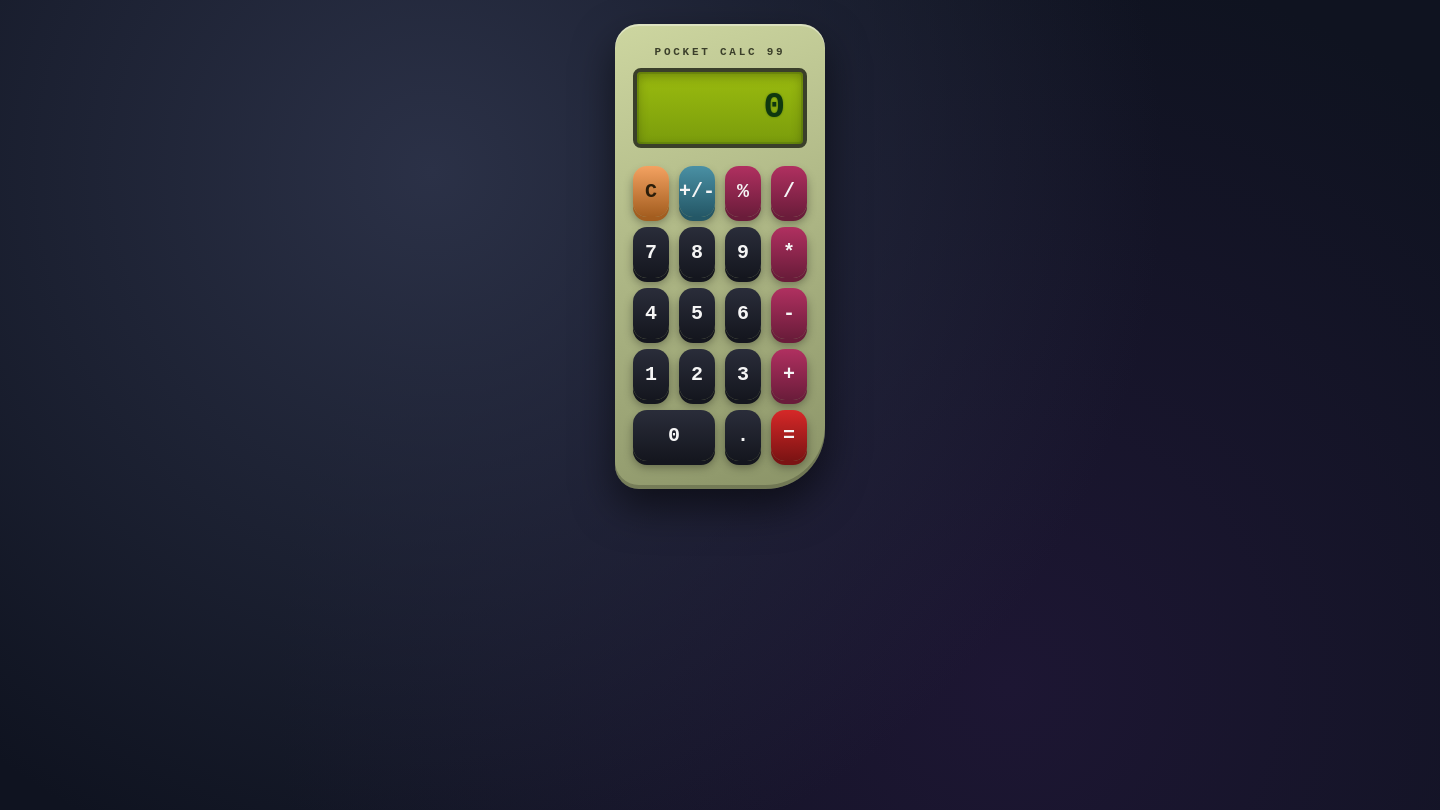
Test case: Pocket Calc 99 › resta con resultado negativo muestra ERROR
Click the button "5". click: (697, 314)
box: [679,288,715,339]
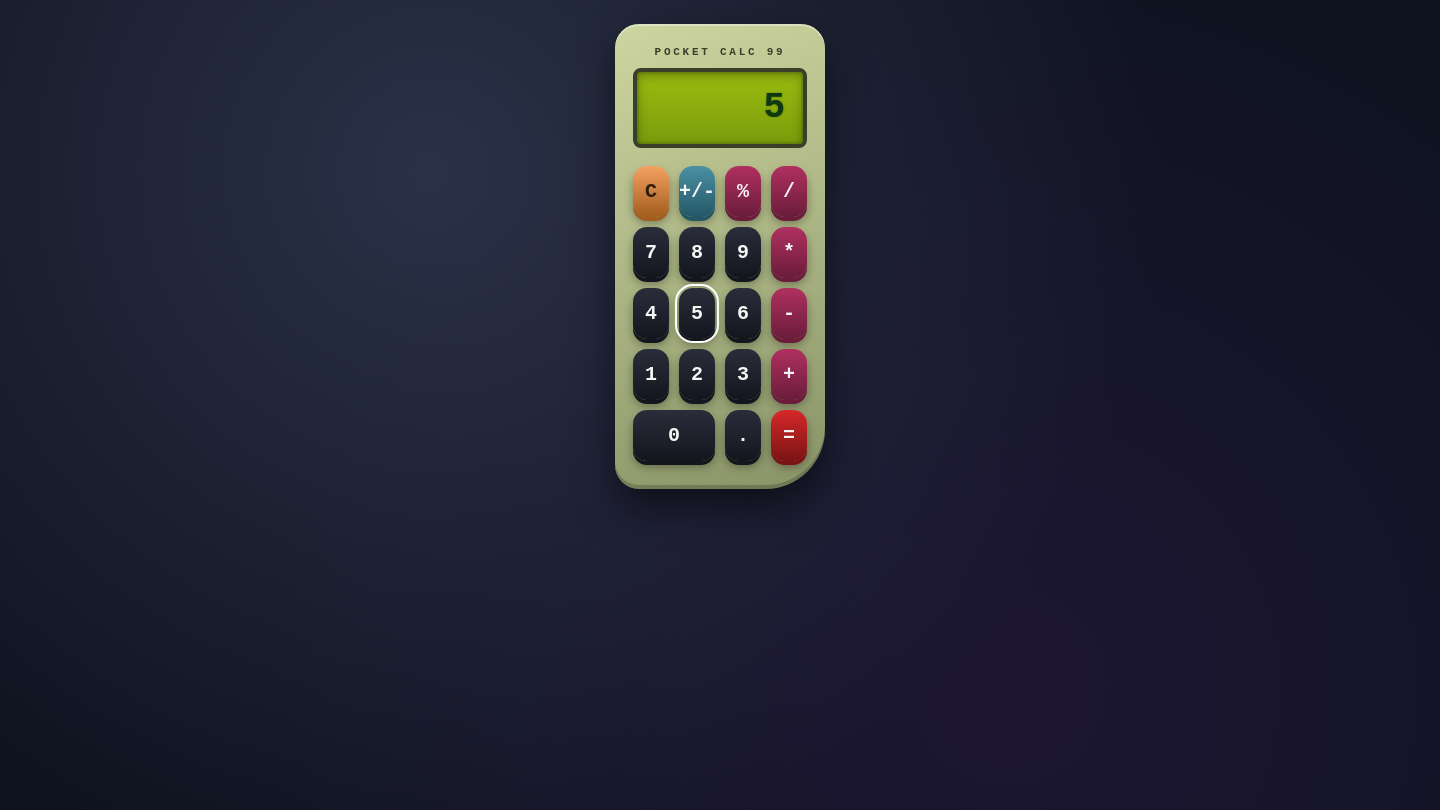
Click the button "-". click: (789, 314)
box: [771,288,807,339]
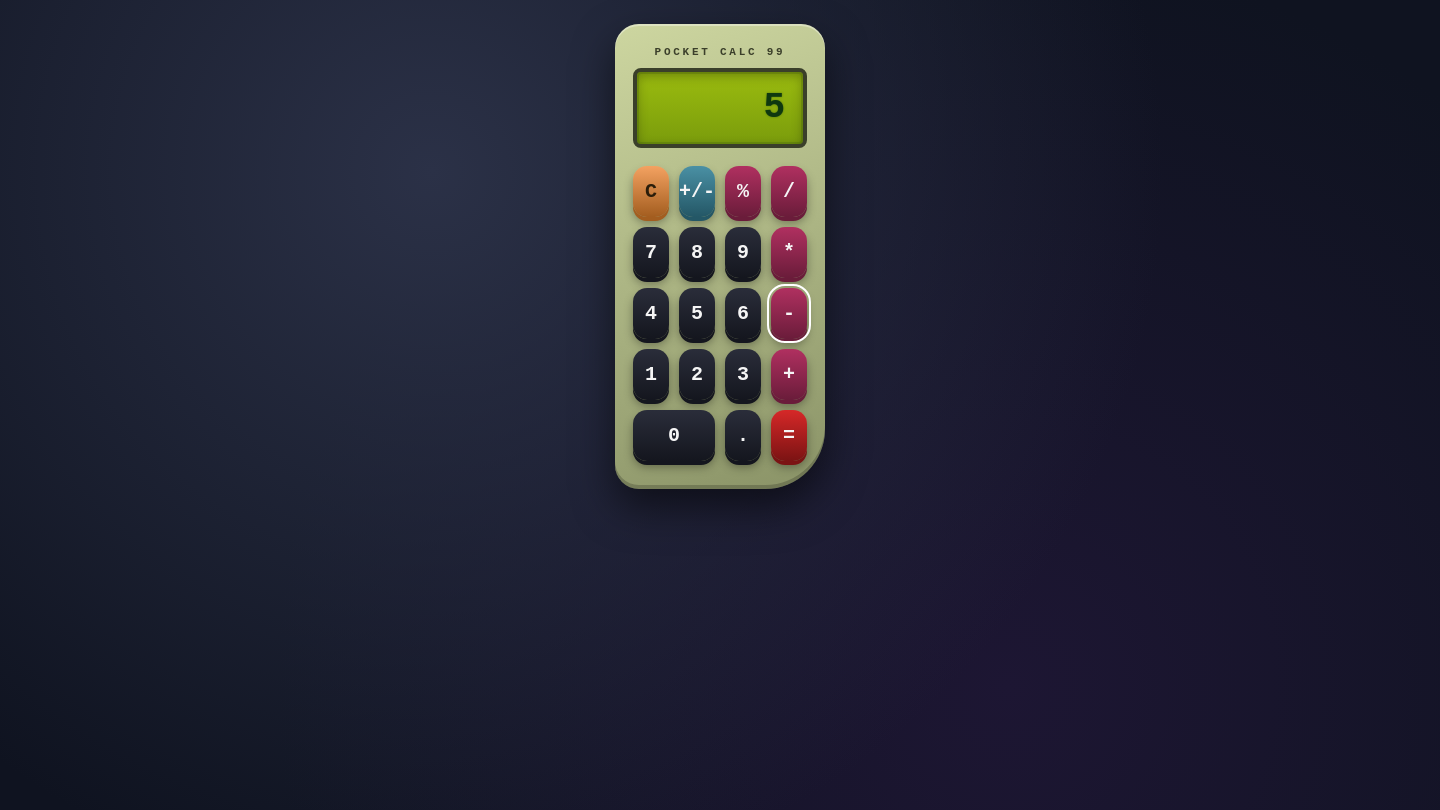
Click the button "8". click: (697, 252)
box: [679,227,715,278]
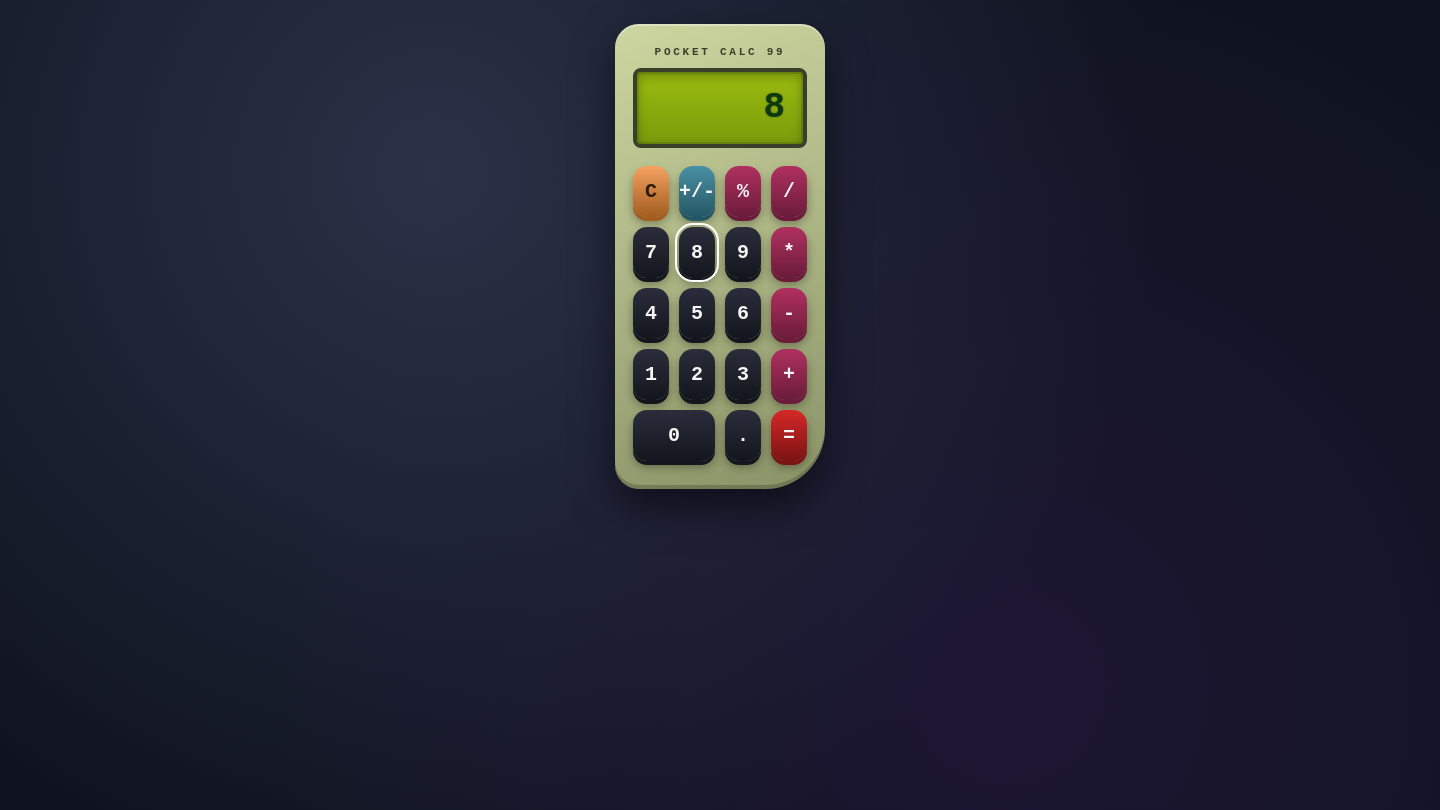
Click the button "=". click: (789, 436)
box: [771,410,807,461]
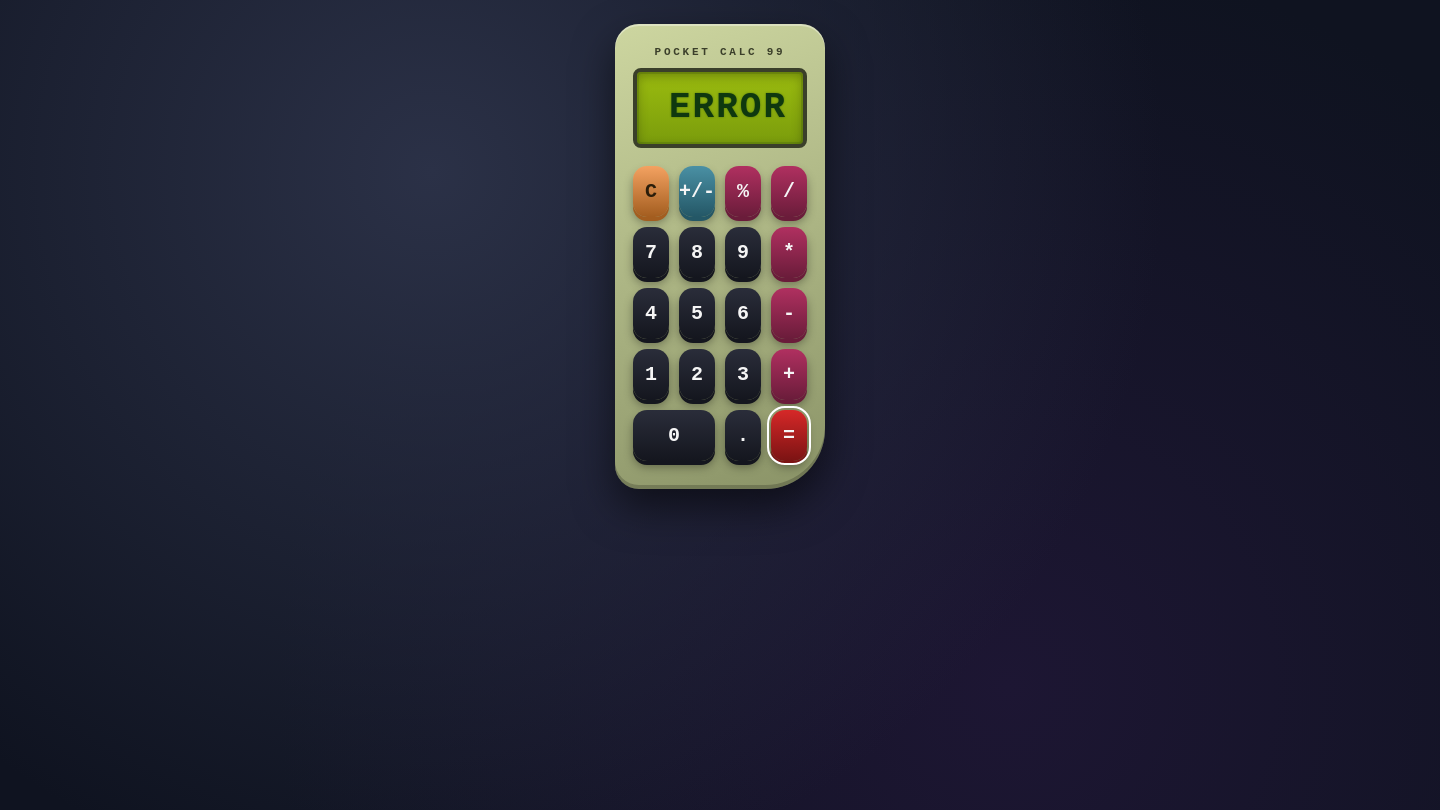
Result: the text "ERROR" is shown at [633,68,807,148]
